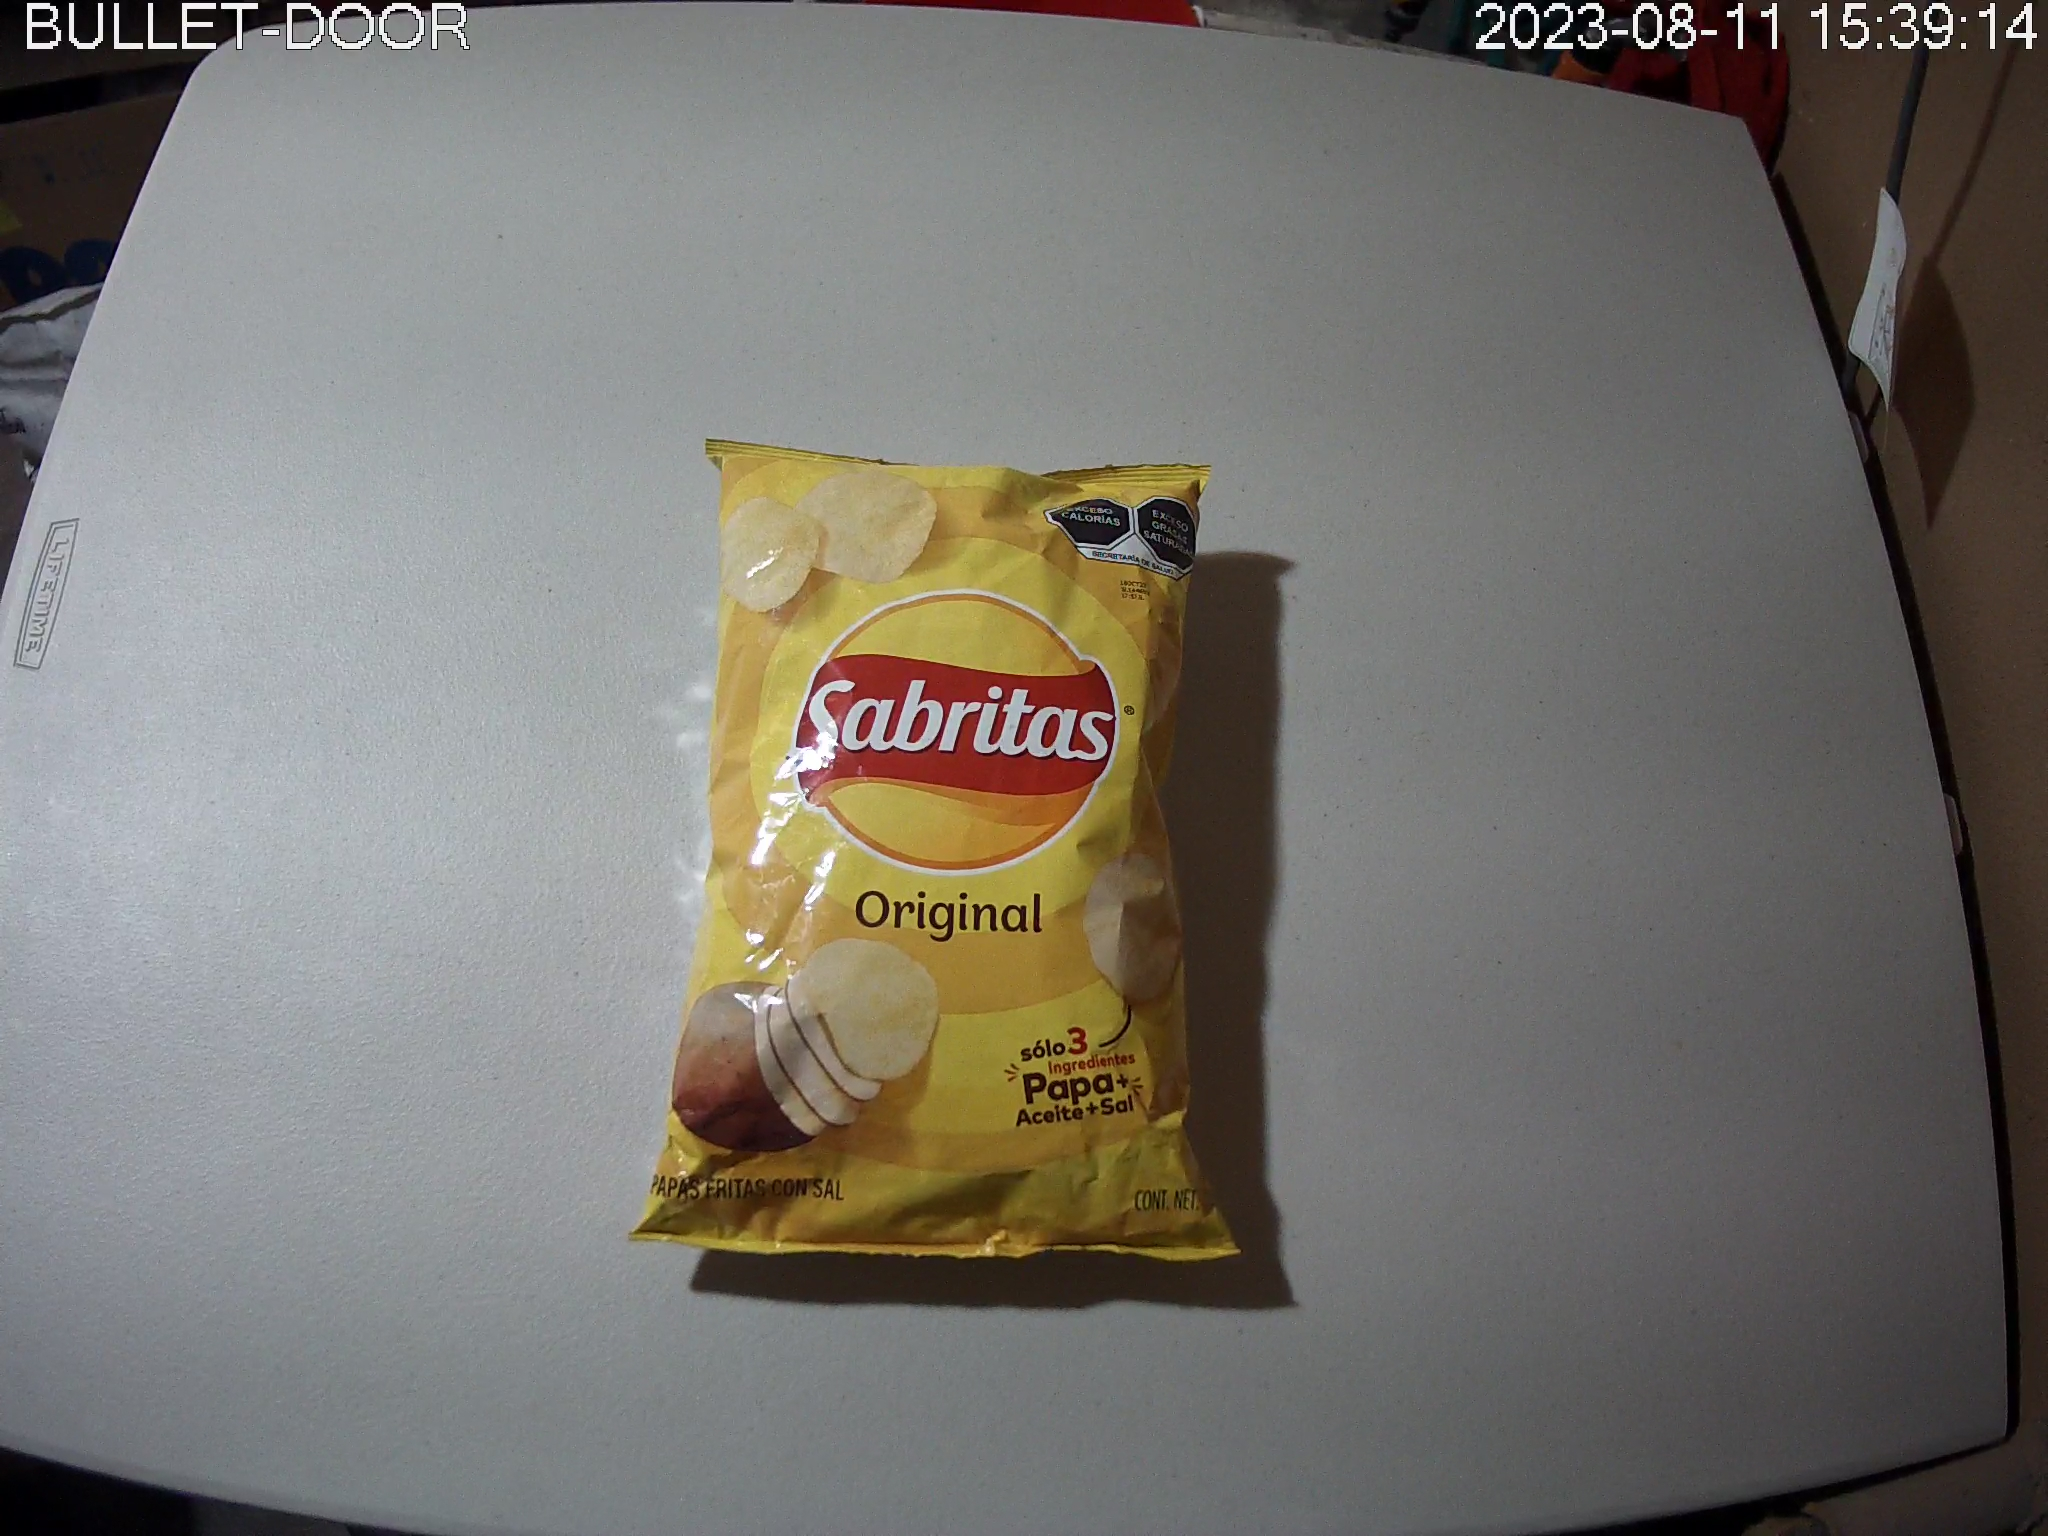Sabritas_160_F: (622, 436, 1242, 1268)
